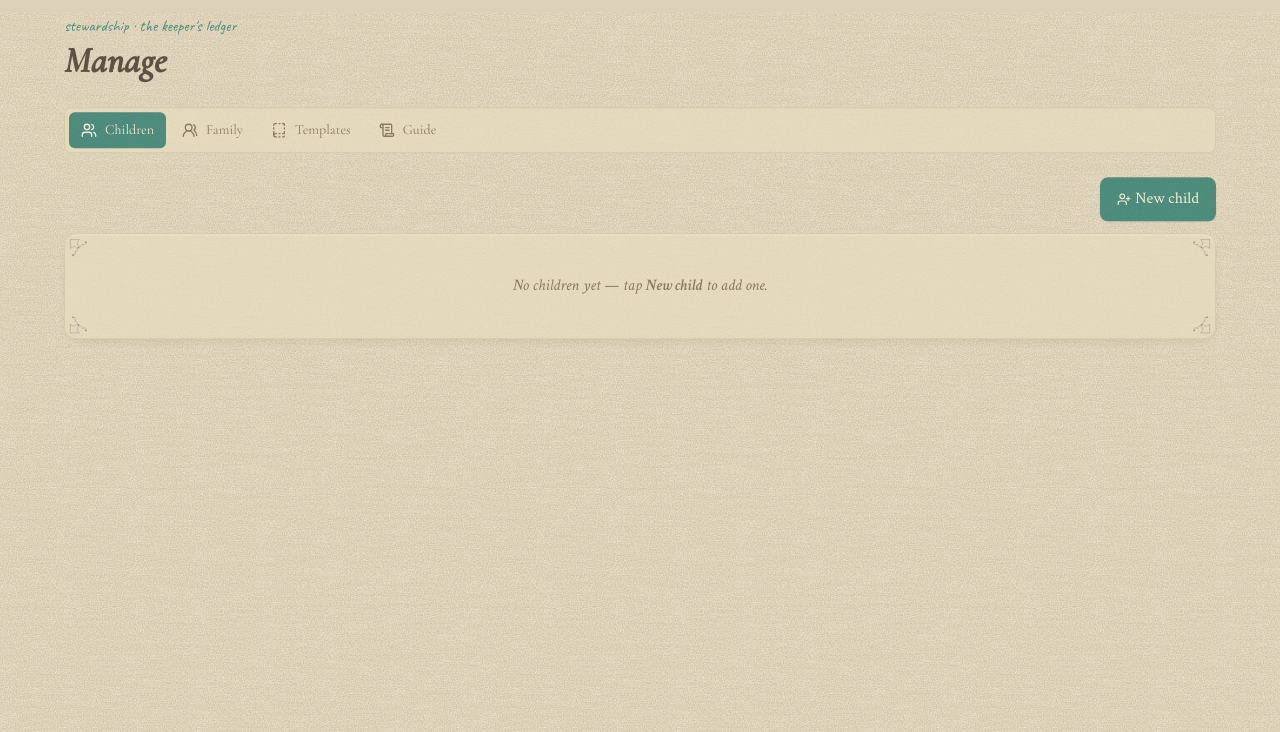
Test: Manage — Family tab › lists co-parents and renders the requesting parent last with a (you) tag
What coordinates should you click on to do the following:
click the tab "Family"
I would click on:
 (212, 130)
Its box is [170,112,255,148].
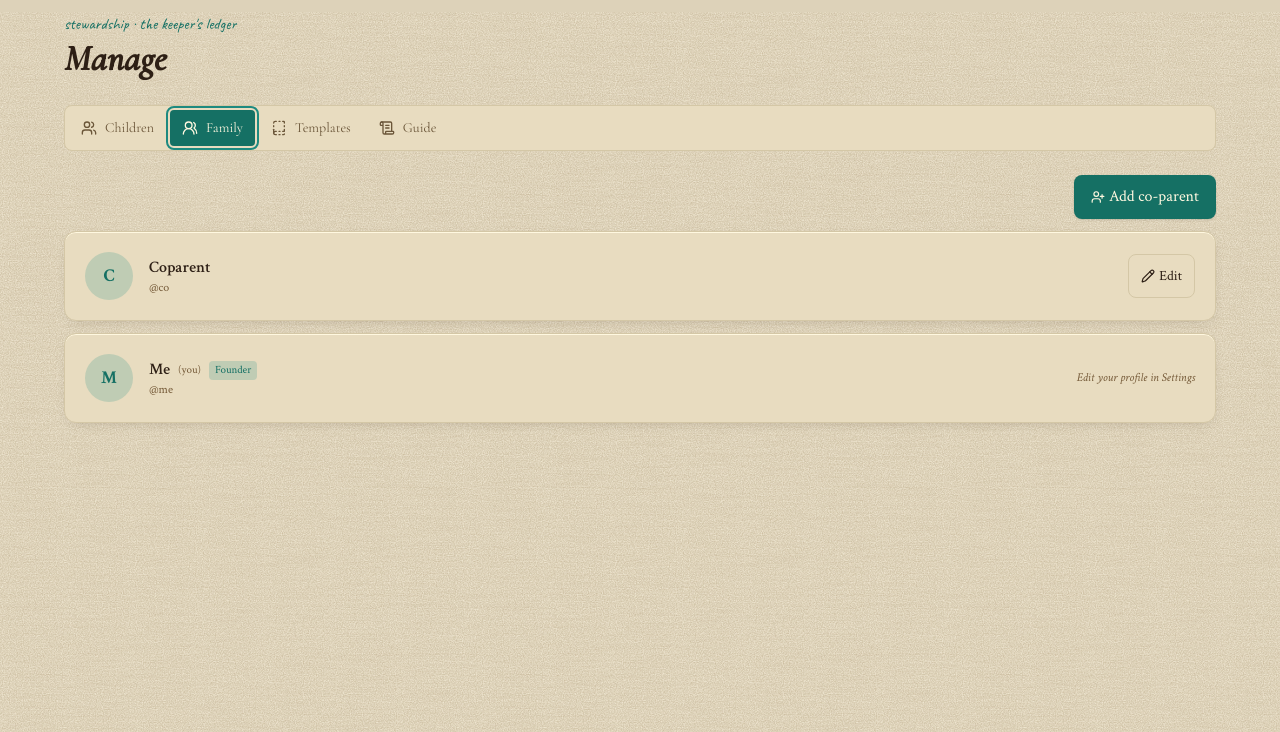
Check: the text "Coparent" is shown, box [149,257,210,278]
Check: the text "(you)" is shown, box [178,362,201,378]
Check: the text "Founder" is shown, box [209,360,257,380]
